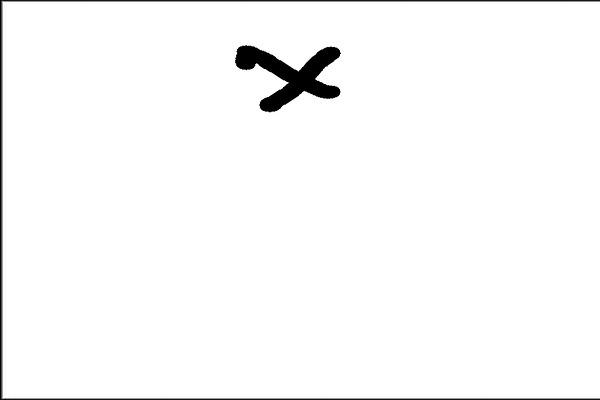X: (215, 31, 354, 118)
